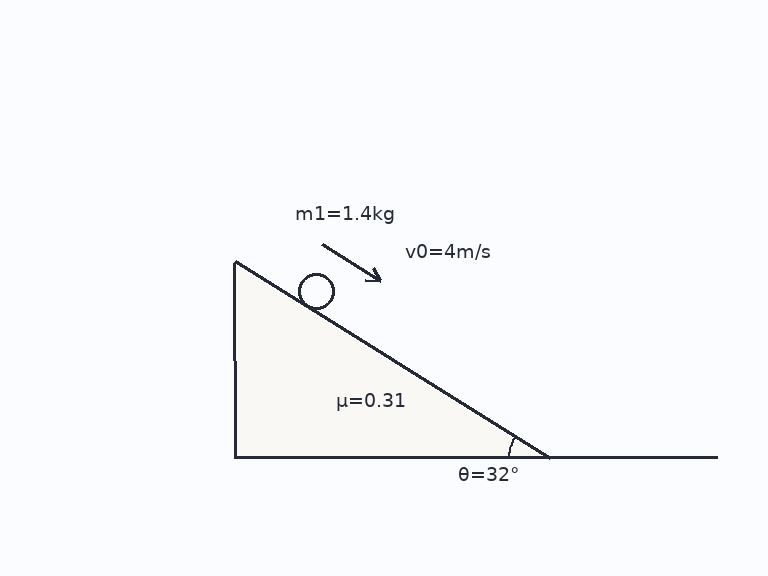ball: (296, 271, 336, 311)
ramp: (233, 260, 551, 460)
